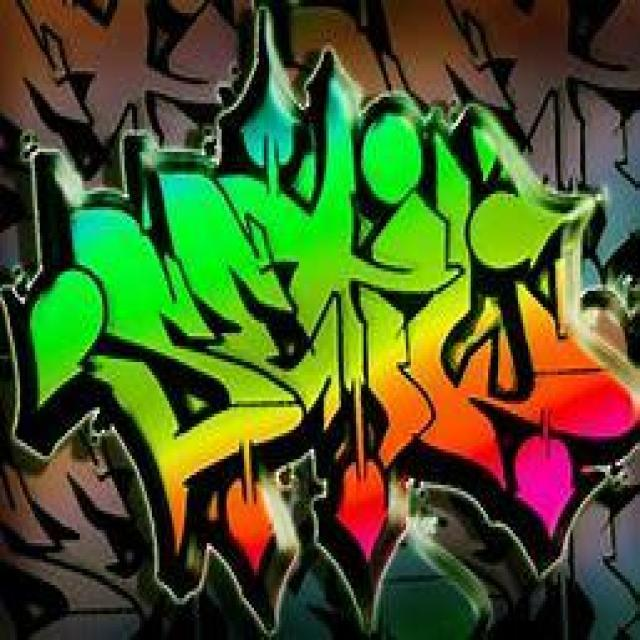nonspitting: (12, 7, 640, 630)
